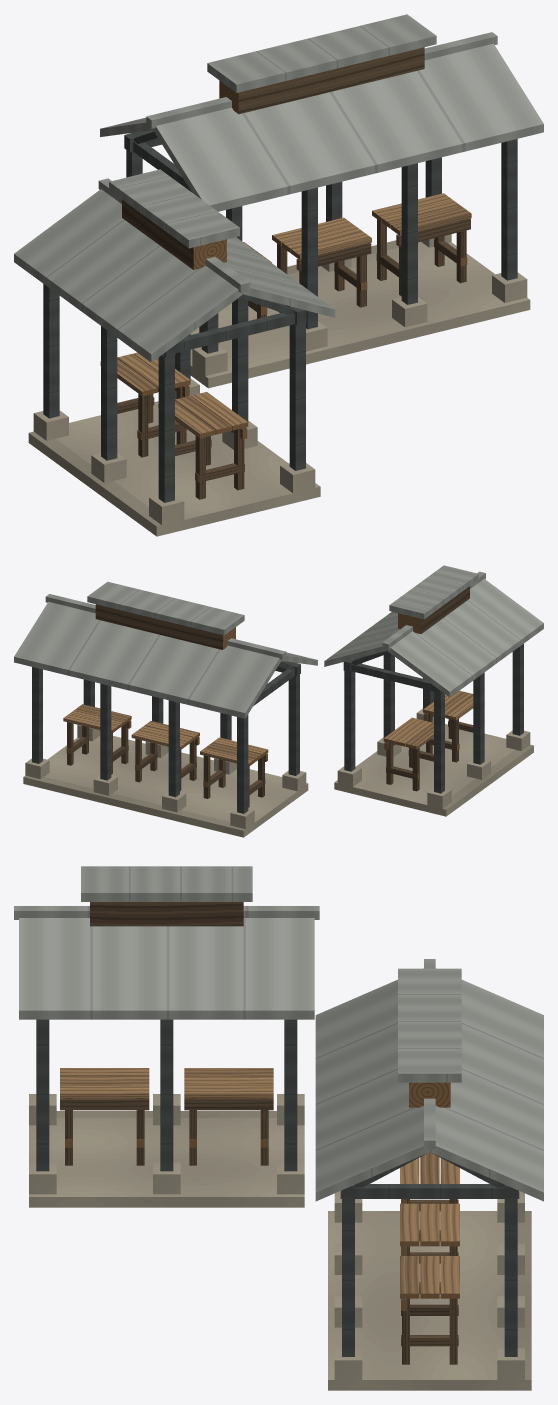
Rendered from osogbo.glb.
3 views of the same model, one above another, from view 1: azimuth 30°, elevation 25°; view 2: azimuth 150°, elevation 25°; view 3: azimuth 270°, elevation 25° (orthographic). The views are drawn at different scales.
Visible parts, largest first — view 1: osogbo; view 2: osogbo; view 3: osogbo.
Part boxes in pixels (x1,y1,x2,y2): osogbo: [14, 14, 543, 536]; osogbo: [14, 565, 543, 837]; osogbo: [14, 866, 543, 1390].
Size of the model in its own units: 5.28 by 2.5 by 4.21.
1 material, 1 textured.
